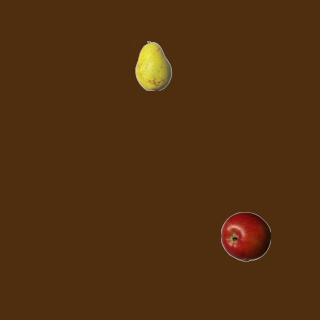Apple Braeburn: (220, 211, 270, 261)
Pear Monster: (128, 40, 178, 90)
